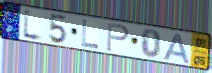0: (140, 28, 162, 60)
5: (48, 12, 69, 45)
A: (162, 32, 192, 65)
L: (21, 7, 44, 45), (80, 18, 100, 50)
P: (105, 21, 130, 53)
